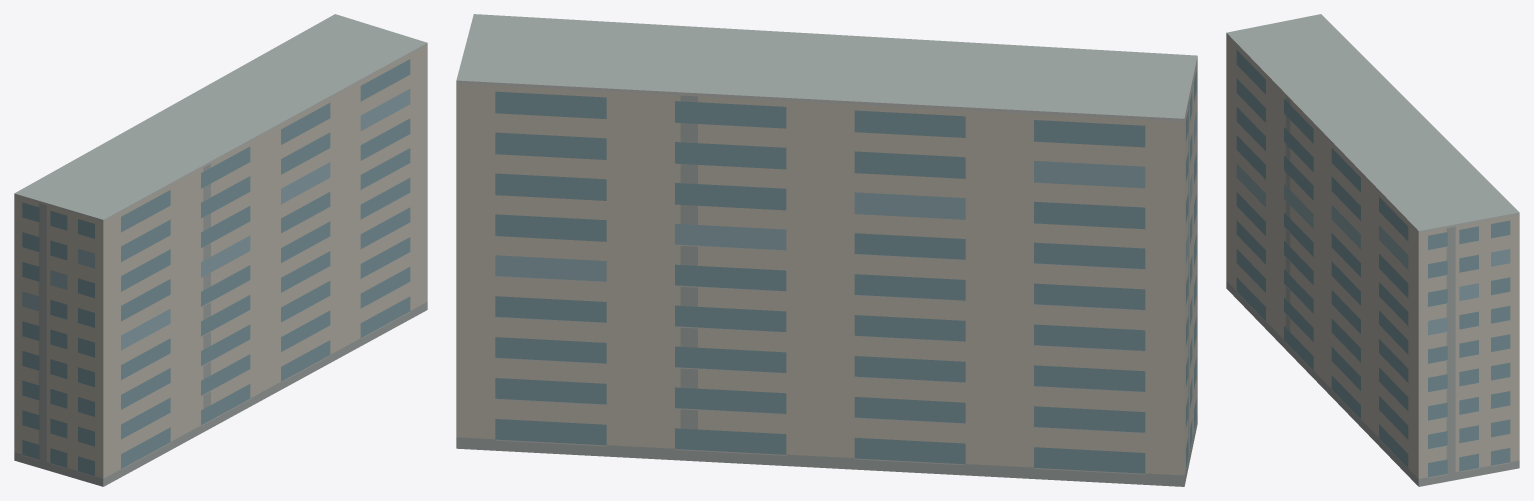
File: residential-7208efd1-10ca-4242-8c50-65443f828a5e.glb
3 renders of one model, left to right at view 1: azimuth 30°, elevation 25°; view 2: azimuth 150°, elevation 25°; view 3: azimuth 270°, elevation 25°, orthographic. The views are drawn at different scales.
Visible parts, largest first — view 1: residential-7208efd1-10ca-4242-8c50-65443f828a5e.tmp; view 2: residential-7208efd1-10ca-4242-8c50-65443f828a5e.tmp; view 3: residential-7208efd1-10ca-4242-8c50-65443f828a5e.tmp.
Part boxes in pixels (bbox=[...]): residential-7208efd1-10ca-4242-8c50-65443f828a5e.tmp: bbox=[14, 14, 427, 486]; residential-7208efd1-10ca-4242-8c50-65443f828a5e.tmp: bbox=[456, 14, 1197, 486]; residential-7208efd1-10ca-4242-8c50-65443f828a5e.tmp: bbox=[1226, 14, 1519, 486].
Size of the model in its own units: 50.98 by 28 by 29.09.
